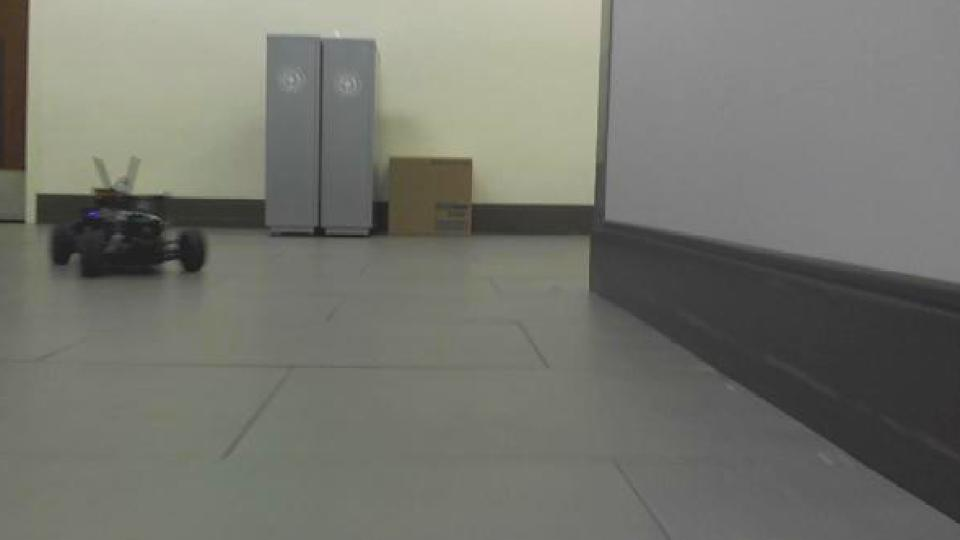car: (49, 202, 211, 282)
